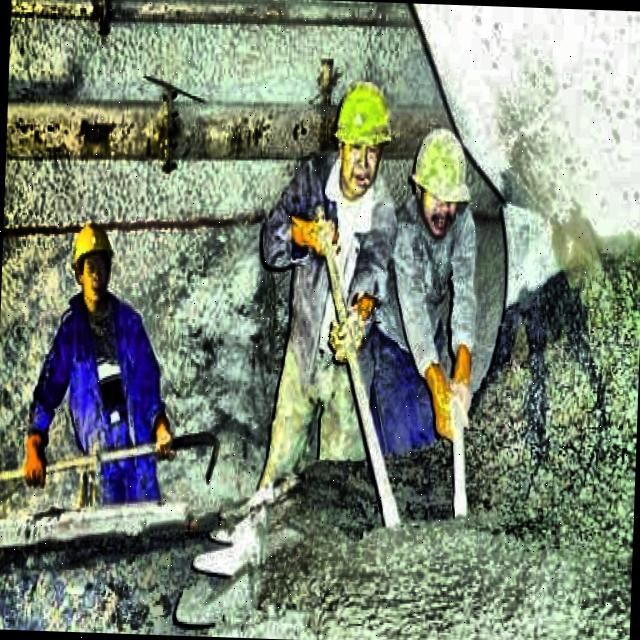helmet: (328, 72, 395, 202), (408, 123, 472, 236), (63, 216, 119, 310)
